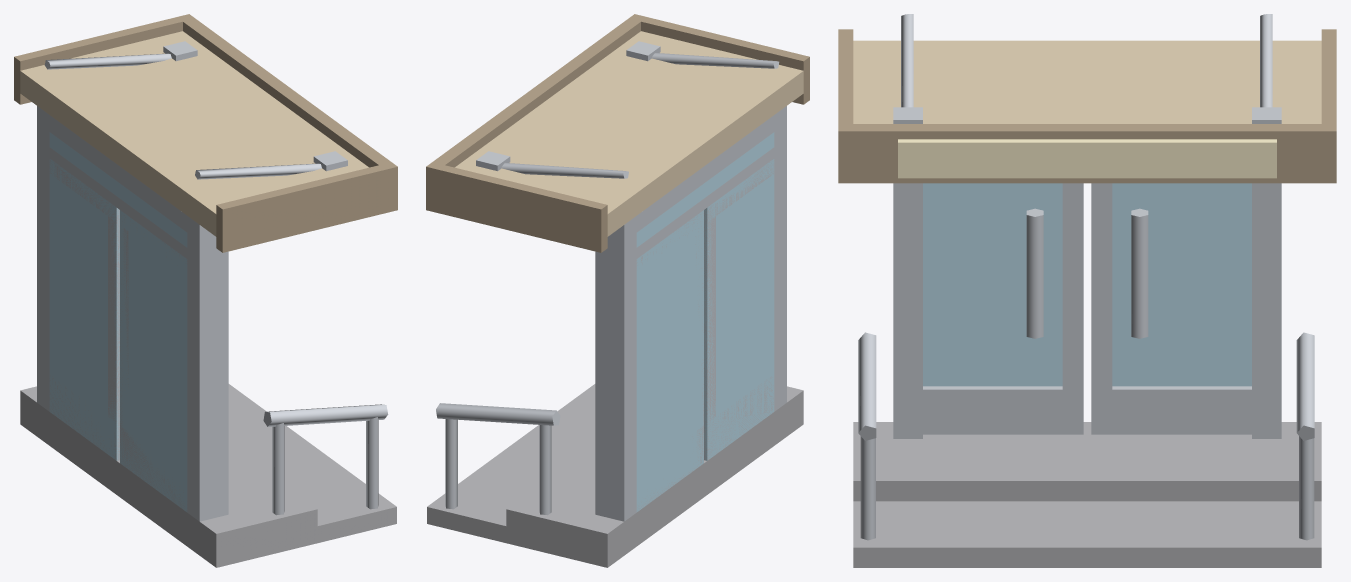
Rendered from building.entrance.glb.
The picture shows the model from 3 angles, left to right: view 1: azimuth 30°, elevation 25°; view 2: azimuth 150°, elevation 25°; view 3: azimuth 270°, elevation 25°; orthographic projection. The views are drawn at different scales.
Visible parts, largest first — view 1: Glass, Metal, Paint, Stone, PaintDark; view 2: Glass, Metal, Paint, Stone, PaintDark; view 3: Stone, Metal, Glass, Paint, PaintDark, Light.
Boxes of the visible parts, box(x1,y1,x2,y2) form: Glass: box(49, 132, 187, 511); Metal: box(37, 41, 388, 521); Paint: box(20, 31, 368, 236); Stone: box(20, 384, 396, 567); PaintDark: box(14, 14, 397, 252); Glass: box(636, 132, 774, 512); Metal: box(436, 41, 786, 521); Paint: box(455, 31, 803, 236); Stone: box(427, 384, 803, 567); PaintDark: box(426, 14, 809, 252); Stone: box(853, 422, 1321, 567); Metal: box(858, 14, 1314, 540); Glass: box(923, 183, 1251, 386); Paint: box(853, 40, 1321, 123); PaintDark: box(838, 29, 1336, 183); Light: box(898, 139, 1276, 178).
Size of the model in its own units: 0.5 by 1 by 1.
